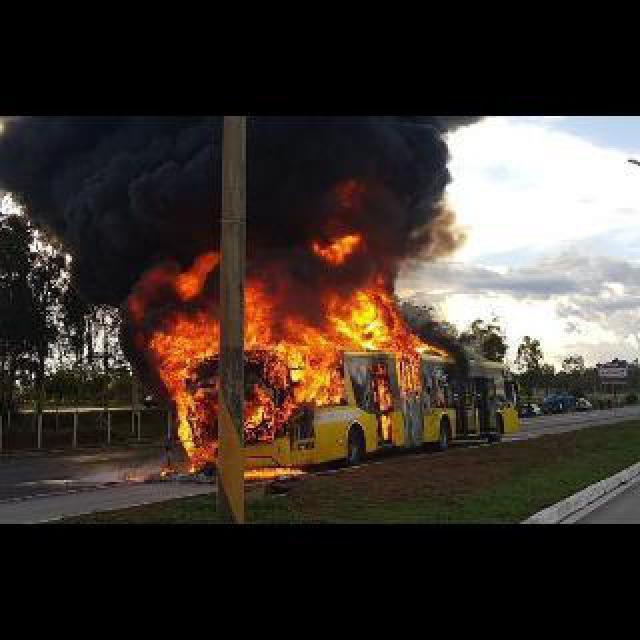Fire: (158, 264, 446, 478)
Smoke: (8, 115, 478, 323)
